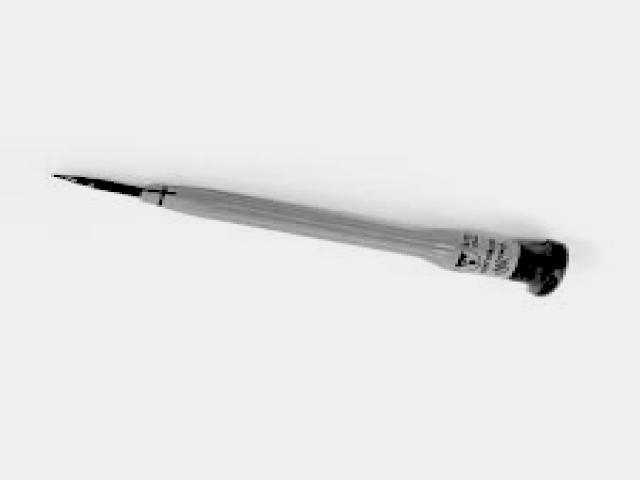Screwdriver: (59, 175, 568, 297)
